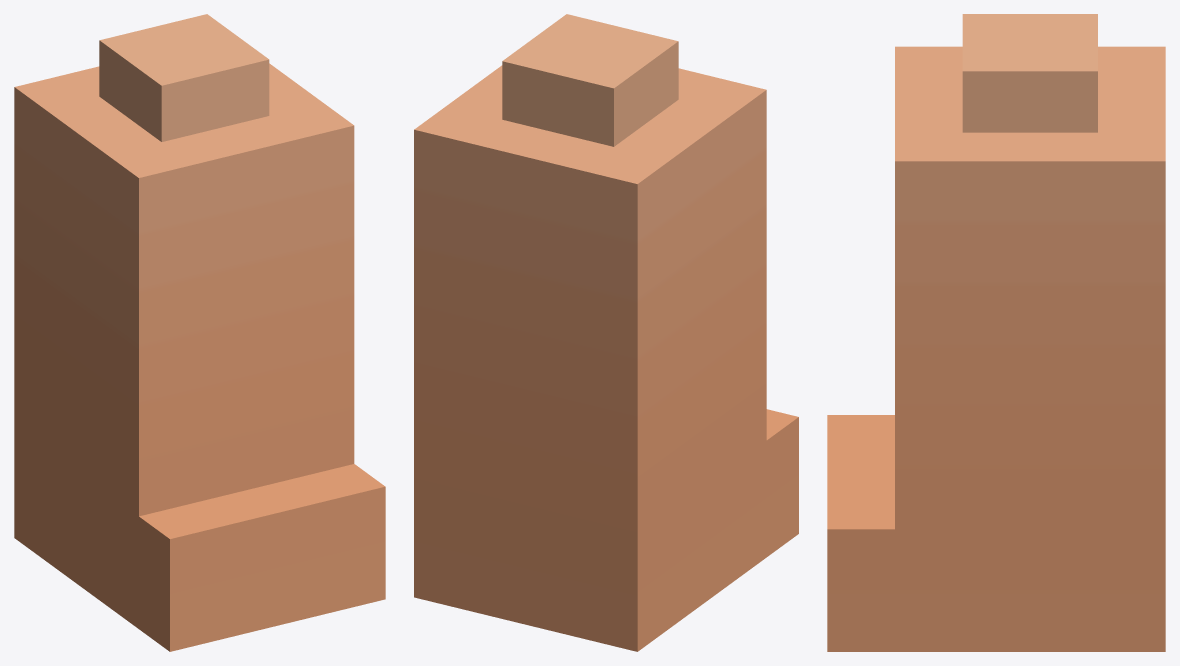
Rendered from Knee064.fbx.
3 views of the same model, side by side, from view 1: azimuth 30°, elevation 25°; view 2: azimuth 150°, elevation 25°; view 3: azimuth 270°, elevation 25° (orthographic). The views are drawn at different scales.
Parts seen in each view (by area): view 1: Knee064; view 2: Knee064; view 3: Knee064.
Part boxes in pixels (x1,y1,x2,y2): Knee064: [14, 14, 385, 651]; Knee064: [414, 14, 798, 651]; Knee064: [827, 14, 1165, 651].
Size of the model in its own units: 4 by 9 by 5.
